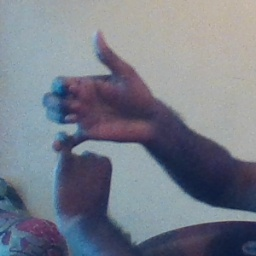S: (40, 26, 152, 212)
